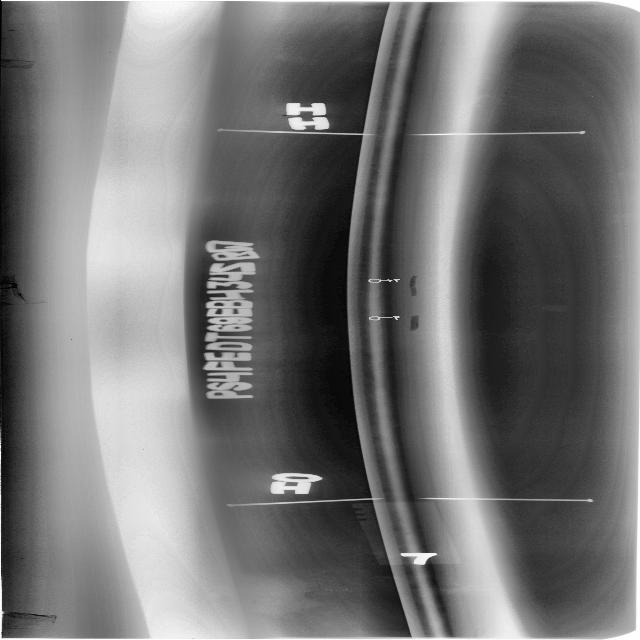porosity: (372, 280, 377, 282), (372, 318, 377, 320), (369, 218, 373, 220)
